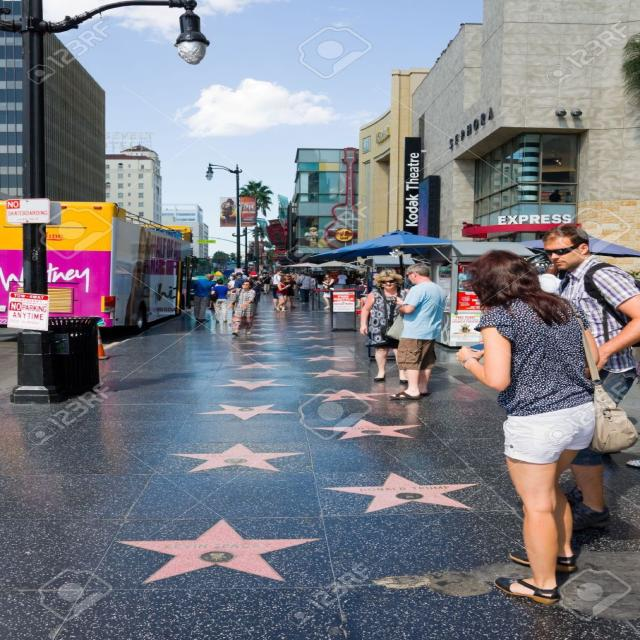body: (450, 247, 638, 608), (542, 222, 640, 529), (382, 261, 447, 401), (358, 270, 410, 384), (124, 224, 160, 327), (228, 278, 258, 336), (190, 273, 218, 322), (209, 277, 229, 323), (242, 270, 262, 316), (536, 264, 563, 298), (321, 273, 337, 310), (276, 276, 292, 312), (283, 273, 298, 310), (271, 268, 284, 310), (296, 272, 312, 304), (354, 277, 369, 309), (306, 217, 322, 245), (210, 276, 223, 310), (547, 188, 572, 204), (229, 272, 250, 290), (222, 198, 236, 225), (296, 272, 308, 300), (261, 273, 272, 295), (226, 273, 238, 290), (293, 274, 301, 299), (212, 271, 224, 287), (336, 270, 348, 285), (625, 458, 639, 470), (310, 274, 317, 296), (261, 264, 272, 274), (258, 272, 264, 290), (241, 271, 249, 279), (266, 270, 274, 276), (290, 272, 298, 278)
